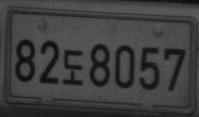0: (114, 44, 136, 89)
2: (38, 39, 59, 84)
5: (139, 45, 160, 90)
7: (162, 47, 187, 91)
8: (13, 38, 36, 83), (88, 43, 110, 87)
도: (62, 48, 83, 86)
